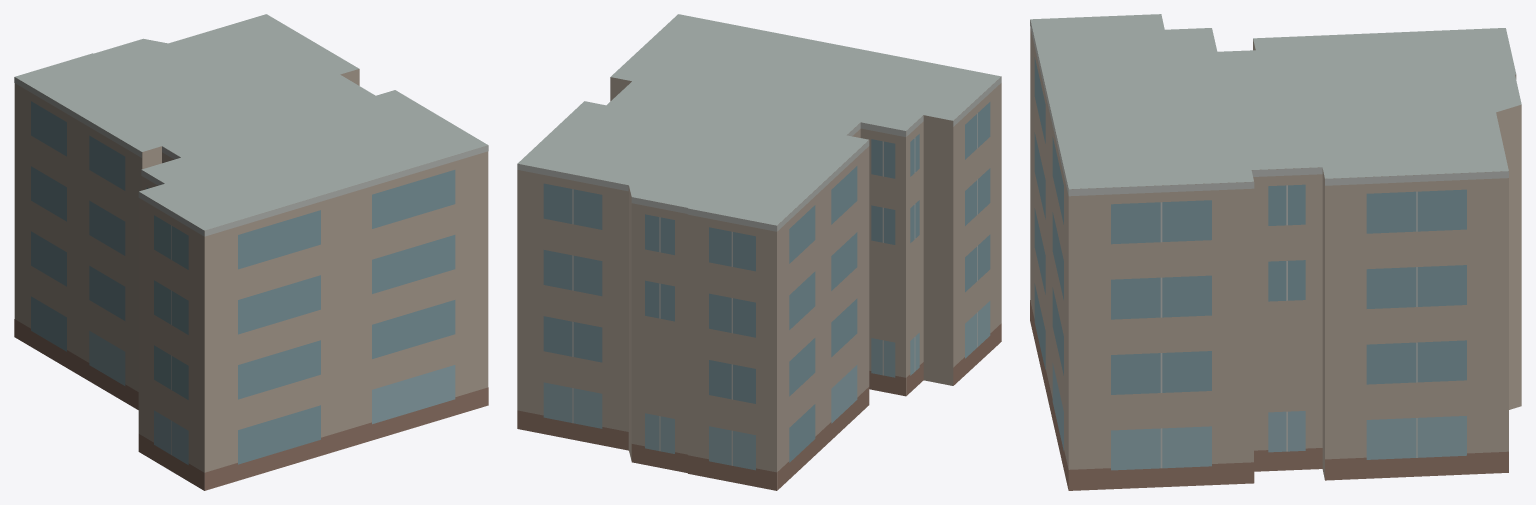
File: survey-upis-32610632.glb
3 views of the same model, side by side, from view 1: azimuth 30°, elevation 25°; view 2: azimuth 150°, elevation 25°; view 3: azimuth 270°, elevation 25° (orthographic). The views are drawn at different scales.
Visible parts, largest first — view 1: survey-upis-32610632.tmp; view 2: survey-upis-32610632.tmp; view 3: survey-upis-32610632.tmp.
Part boxes in pixels (x1=…): survey-upis-32610632.tmp: x1=14, y1=14, x2=488, y2=490; survey-upis-32610632.tmp: x1=517, y1=14, x2=1001, y2=490; survey-upis-32610632.tmp: x1=1030, y1=14, x2=1521, y2=490.
Size of the model in its own units: 13.09 by 10.5 by 15.52.
